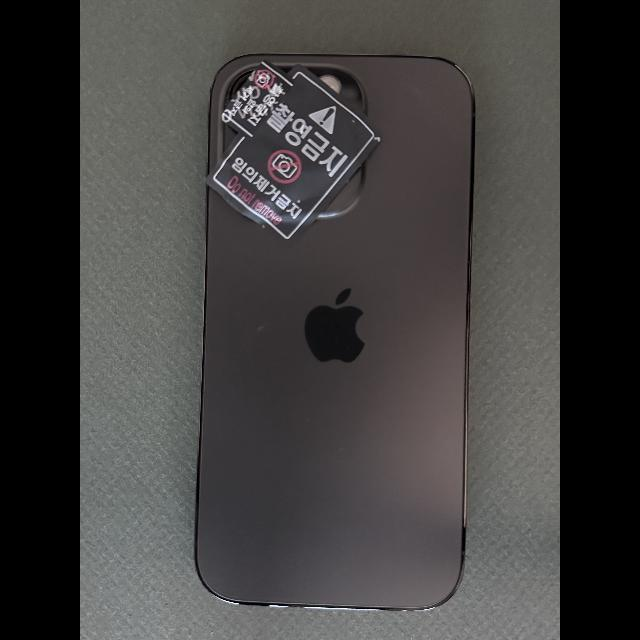phone: (194, 53, 474, 611)
sticker: (205, 65, 383, 246), (221, 60, 294, 138)
